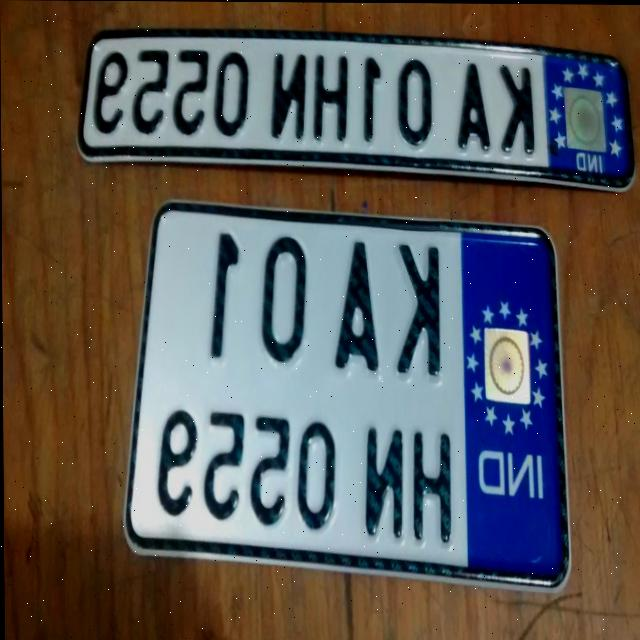plate: (126, 188, 580, 621), (71, 23, 640, 195)
